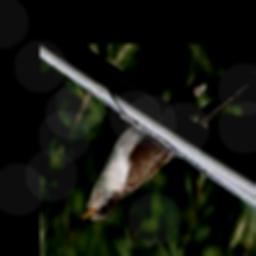Cuckoo: (77, 68, 256, 222)
